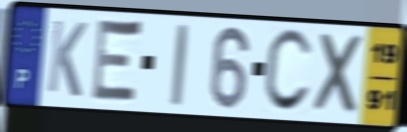6: (208, 24, 252, 112)
C: (260, 26, 315, 117)
E: (88, 15, 146, 109)
I: (169, 22, 191, 108)
K: (44, 16, 89, 100)
X: (312, 30, 368, 118)
